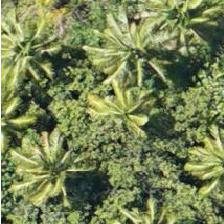Kelapa_Sawit: (91, 12, 181, 102), (75, 69, 165, 159), (5, 124, 95, 214), (0, 4, 65, 94), (138, 0, 224, 60), (0, 74, 54, 164)
